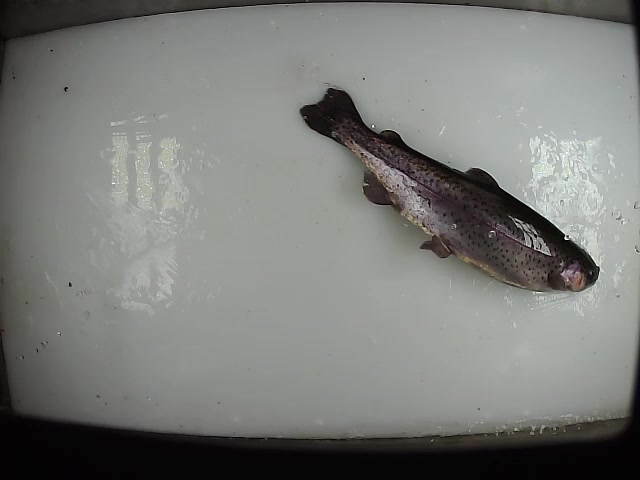fish: (298, 85, 603, 295)
